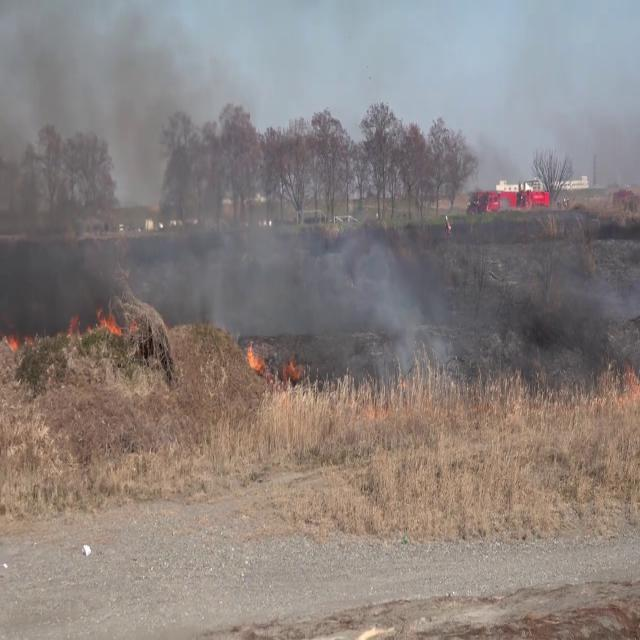Smoke: (0, 116, 452, 382)
